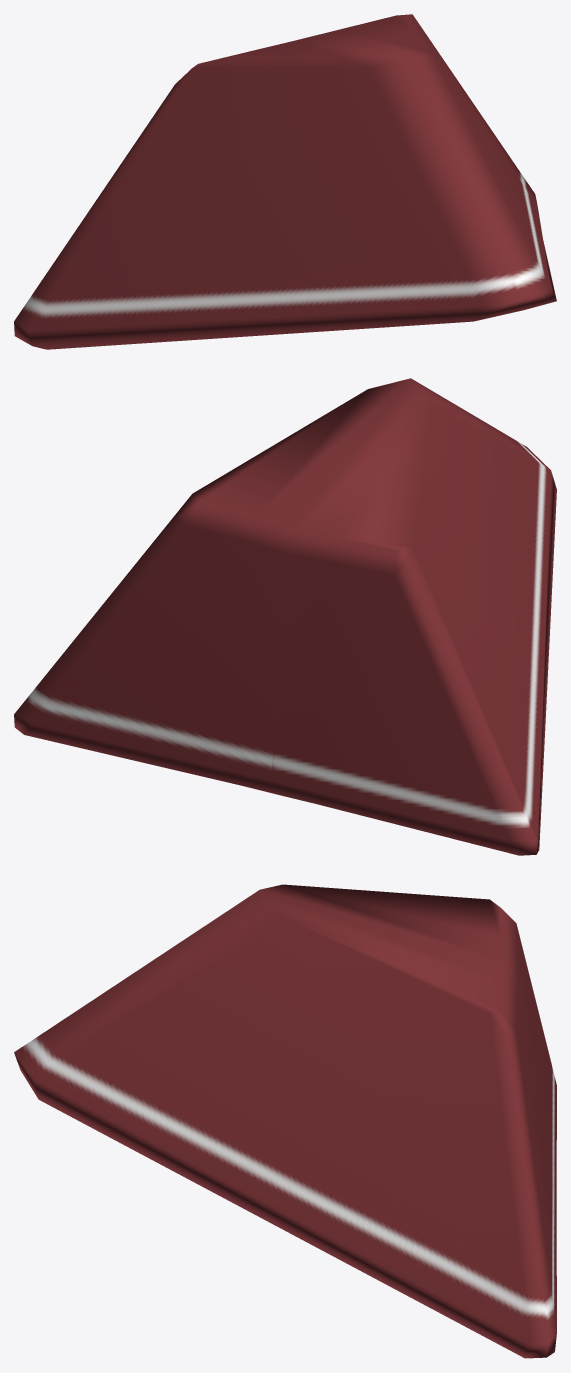
The model's file is fbx_icecreamHat.fbx.
3 views of the same model, one above another, from view 1: azimuth 30°, elevation 25°; view 2: azimuth 150°, elevation 25°; view 3: azimuth 270°, elevation 25° (orthographic). The views are drawn at different scales.
Parts seen in each view (by area): view 1: icecreamHat_geo; view 2: icecreamHat_geo; view 3: icecreamHat_geo.
Part boxes in pixels (left/top/right/bottom): icecreamHat_geo: left=14, top=14, right=556, bottom=349; icecreamHat_geo: left=14, top=378, right=556, bottom=855; icecreamHat_geo: left=14, top=884, right=556, bottom=1358.
Bounding box in the file's own units: 2.03 × 1.21 × 1.72.
1 material, 1 textured.
